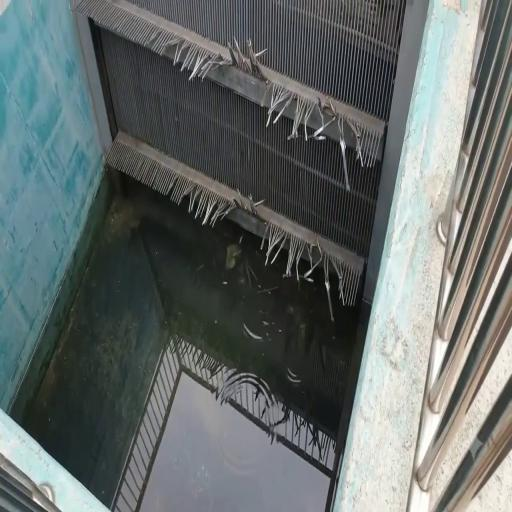rake_broken: (327, 102, 360, 170), (294, 80, 326, 147), (216, 32, 266, 74), (300, 233, 330, 297), (281, 221, 305, 290), (329, 248, 354, 314), (229, 184, 265, 228), (168, 32, 194, 78), (194, 185, 220, 231), (215, 188, 239, 234), (195, 44, 217, 90), (261, 218, 281, 268), (256, 72, 276, 120), (275, 89, 298, 128), (172, 178, 195, 215), (143, 27, 166, 57), (162, 174, 182, 201), (358, 124, 374, 150)
